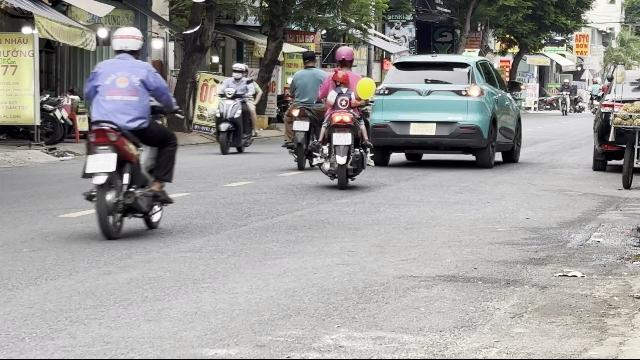helmet: (108, 26, 144, 58), (334, 46, 356, 68), (230, 62, 246, 78)
licenseplate: (85, 153, 115, 171), (333, 134, 351, 144), (292, 121, 308, 131)
motorcyclist: (78, 23, 180, 236), (319, 45, 375, 188), (280, 50, 328, 168), (211, 62, 259, 154)
nohelmet: (301, 50, 317, 68)
